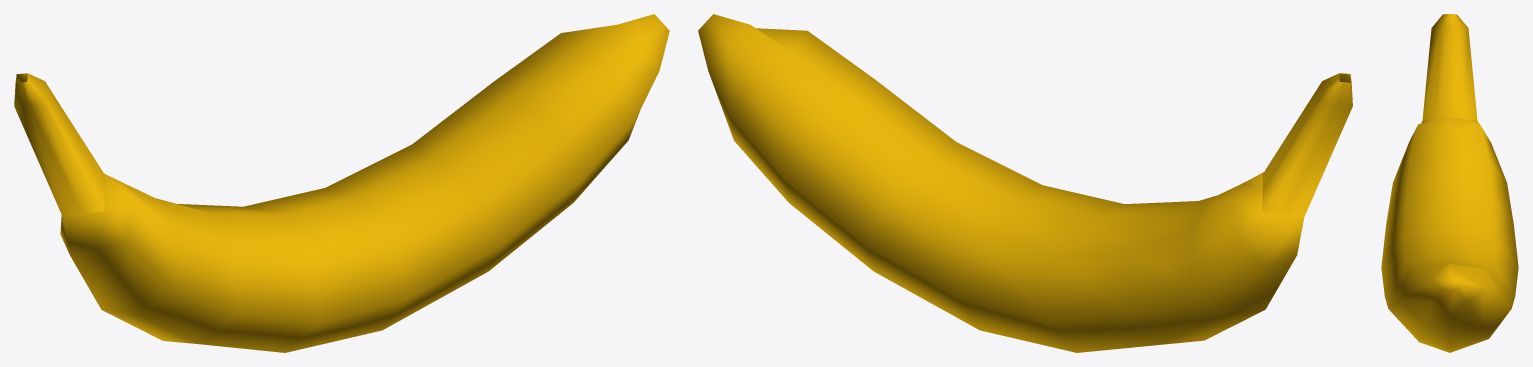
The model's file is pisang.fbx.
3 views of the same model, side by side, from view 1: azimuth 30°, elevation 25°; view 2: azimuth 150°, elevation 25°; view 3: azimuth 270°, elevation 25° (orthographic). The views are drawn at different scales.
Visible parts, largest first — view 1: Pisang; view 2: Pisang; view 3: Pisang.
Part boxes in pixels (x1,y1,x2,y2): Pisang: (14, 14, 669, 352); Pisang: (698, 14, 1352, 352); Pisang: (1381, 14, 1518, 352).
Bounding box in the file's own units: 432 × 212 × 120.
